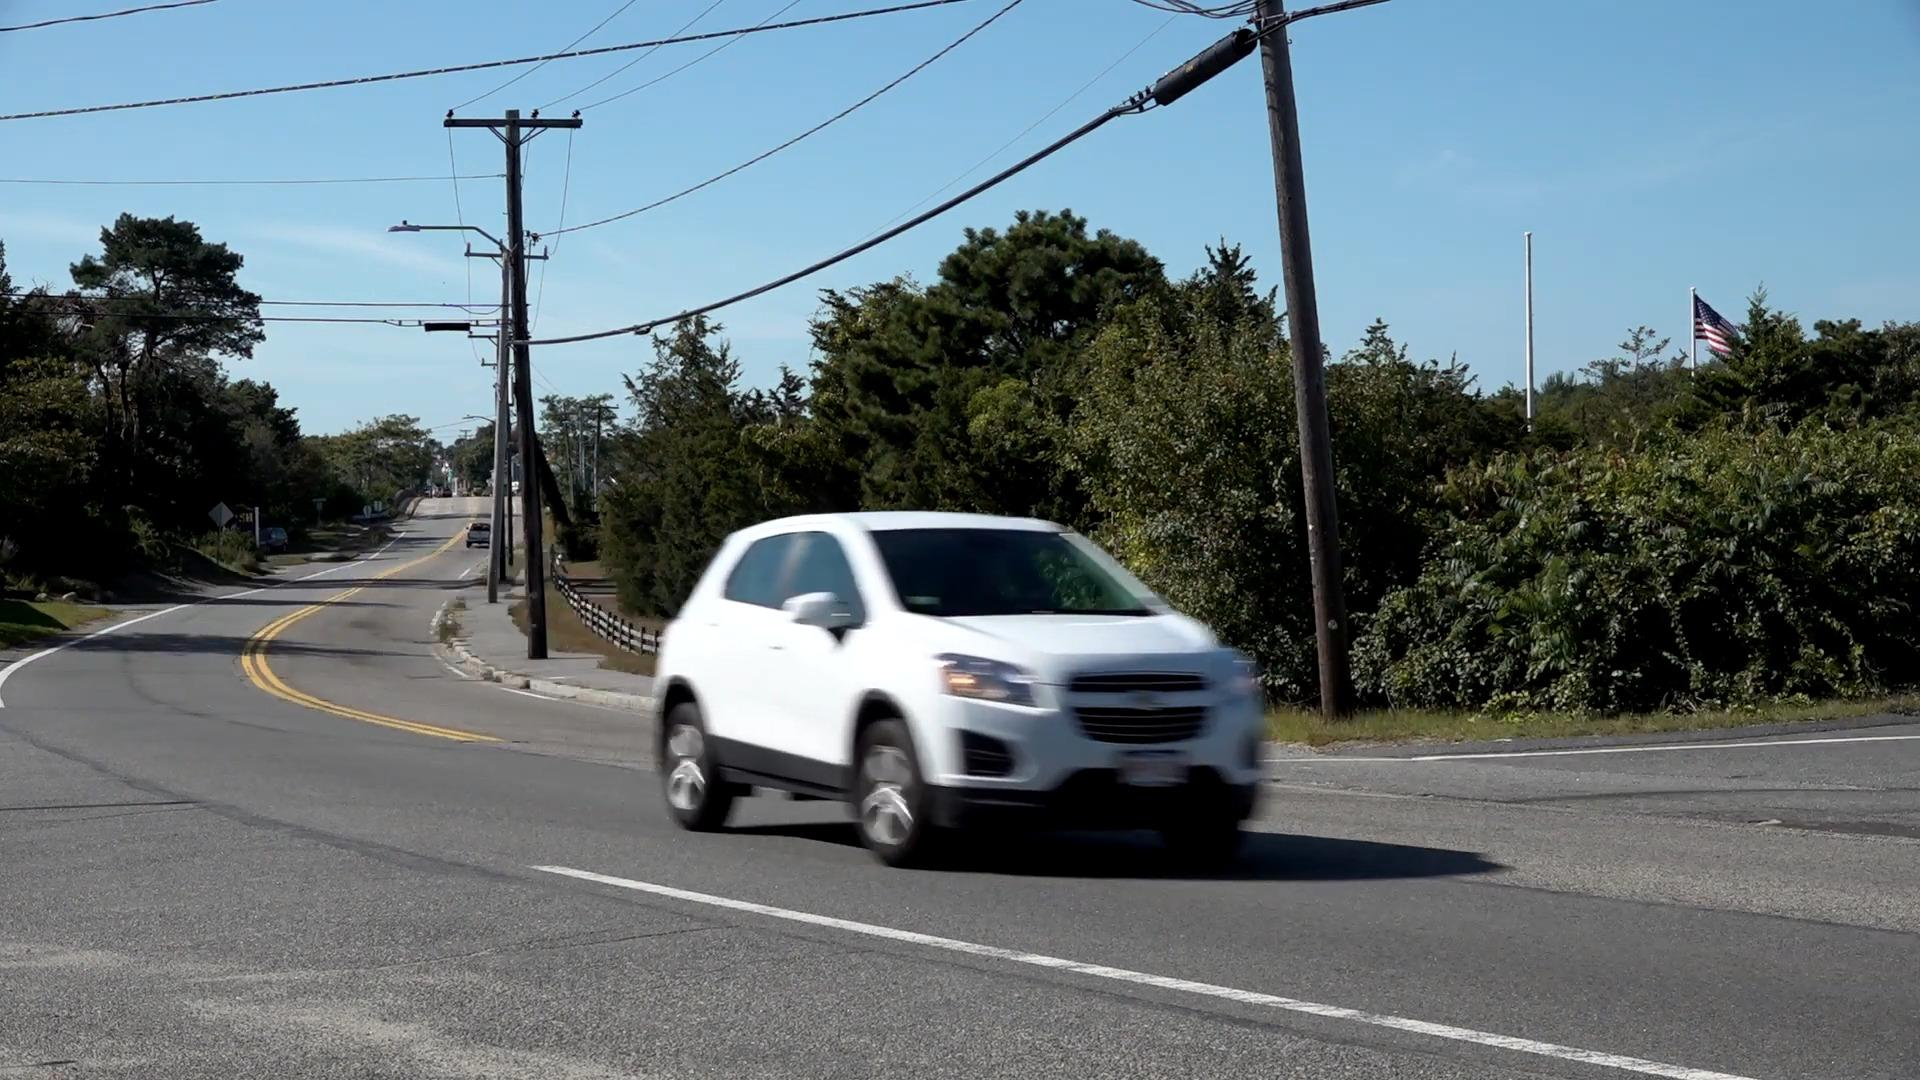suv: (655, 501, 1265, 873)
